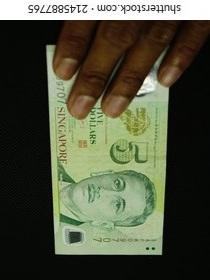5SingaporeDollar: (53, 76, 163, 253)
